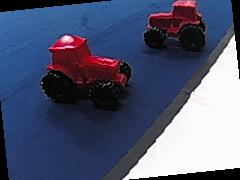Tracktor: (39, 33, 134, 107), (141, 1, 209, 50)
